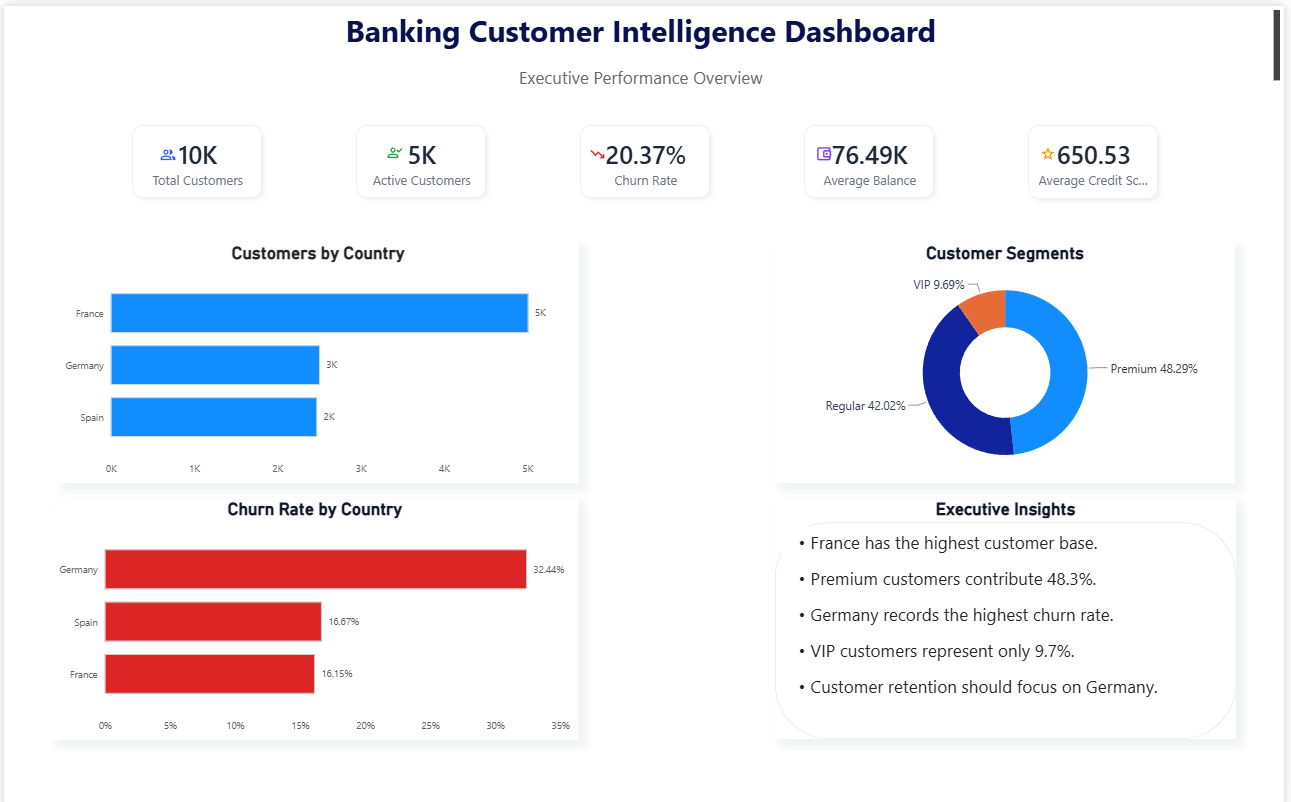

What the dashboard file says about the page in this screenshot:
{"tool":"powerbi","page":{"name":"Executive Dashboard","canvas":[1600,1000],"ordinal":0},"visuals":[{"type":"textbox","box":[0,0,1600,102.9],"z":0},{"type":"cardVisual","fields":{"Data":["customers_processed.Total Customers"]},"box":[131.6,120.3,220.2,149.2],"z":1000,"group":"g5"},{"type":"clusteredBarChart","title":"Customers by Country","fields":{"Category":["customers_processed.country"],"Y":["customers_processed.Total Customers"]},"box":[67.1,296.5,650.6,300],"z":1000},{"type":"cardVisual","fields":{"Data":["customers_processed.Churn Rate"]},"box":[691.5,120,220.2,149.2],"z":2000,"group":"g3"},{"type":"cardVisual","fields":{"Data":["customers_processed.Average Credit Score"]},"box":[1251.5,120,220.1,150.4],"z":2000,"group":"g1"},{"type":"donutChart","title":"Customer Segments","fields":{"Category":["customers_processed.customer_segment"],"Y":["customers_processed.Total Customers"]},"box":[963.5,296.5,575.3,300],"z":2000},{"type":"cardVisual","fields":{"Data":["customers_processed.Active Customers"]},"box":[411.5,120,220,149.2],"z":3000,"group":"g7"},{"type":"group","id":"g1","title":"Group 1","box":[1251.5,120,220,150.5],"z":3000},{"type":"group","id":"g2","title":"Group 2","box":[971.5,120,220,149.2],"z":4000},{"type":"cardVisual","fields":{"Data":["customers_processed.Average Balance"]},"box":[971.5,120,220.2,149.2],"z":4000,"group":"g2"},{"type":"group","id":"g3","title":"Group 3","box":[691.5,120,220,149.2],"z":5000},{"type":"image","box":[194.8,174.8,19.9,22.6],"z":5000,"group":"g5"},{"type":"group","id":"g4","title":"Group 4","box":[411.5,120,220,149.2],"z":6000,"group":"g6"},{"type":"group","id":"g5","title":"Group 5","box":[131.6,120.3,220.5,149.1],"z":6000},{"type":"group","id":"g6","title":"Group 7","box":[411.5,120,220,149.2],"z":7000},{"type":"image","box":[479.2,172.7,20.3,21.9],"z":7000,"group":"g6"},{"type":"image","box":[732.1,173.5,20.8,22.6],"z":7000,"group":"g3"},{"type":"image","box":[1294.7,173.7,19.9,22.6],"z":7000,"group":"g1"},{"type":"group","id":"g7","title":"Group 6","box":[411.5,120,220,149.2],"z":7001,"group":"g4"},{"type":"image","box":[1013.9,173.5,21.7,22.6],"z":8000,"group":"g2"},{"type":"clusteredBarChart","title":"Churn Rate by Country","fields":{"Category":["customers_processed.country"],"Y":["customers_processed.Churn Rate"]},"box":[60,616.5,657.6,301.2],"z":8000},{"type":"shape","title":"Executive Insights","box":[963.5,616.5,576.5,300],"z":9000},{"type":"textbox","box":[971,651.5,517.5,221.8],"z":10000}]}

Visuals, with their boxes in screenshot pixels (x1, y1, x2, y2), scaled from the page's 1600x1000 canvas onto the 1291x802 screenshot:
textbox: [0, 0, 1290, 83]
cardVisual - customers_processed.Total Customers: [106, 96, 284, 216]
"Customers by Country" clusteredBarChart: [54, 238, 579, 478]
cardVisual - customers_processed.Churn Rate: [558, 96, 736, 216]
cardVisual - customers_processed.Average Credit Score: [1010, 96, 1187, 217]
"Customer Segments" donutChart: [777, 238, 1242, 478]
cardVisual - customers_processed.Active Customers: [332, 96, 510, 216]
"Group 1" group: [1010, 96, 1187, 217]
"Group 2" group: [784, 96, 961, 216]
cardVisual - customers_processed.Average Balance: [784, 96, 962, 216]
"Group 3" group: [558, 96, 735, 216]
image: [157, 140, 173, 158]
"Group 4" group: [332, 96, 510, 216]
"Group 5" group: [106, 96, 284, 216]
"Group 7" group: [332, 96, 510, 216]
image: [387, 139, 403, 156]
image: [591, 139, 607, 157]
image: [1045, 139, 1061, 157]
"Group 6" group: [332, 96, 510, 216]
image: [818, 139, 836, 157]
"Churn Rate by Country" clusteredBarChart: [48, 494, 579, 736]
"Executive Insights" shape: [777, 494, 1243, 735]
textbox: [783, 523, 1201, 700]
